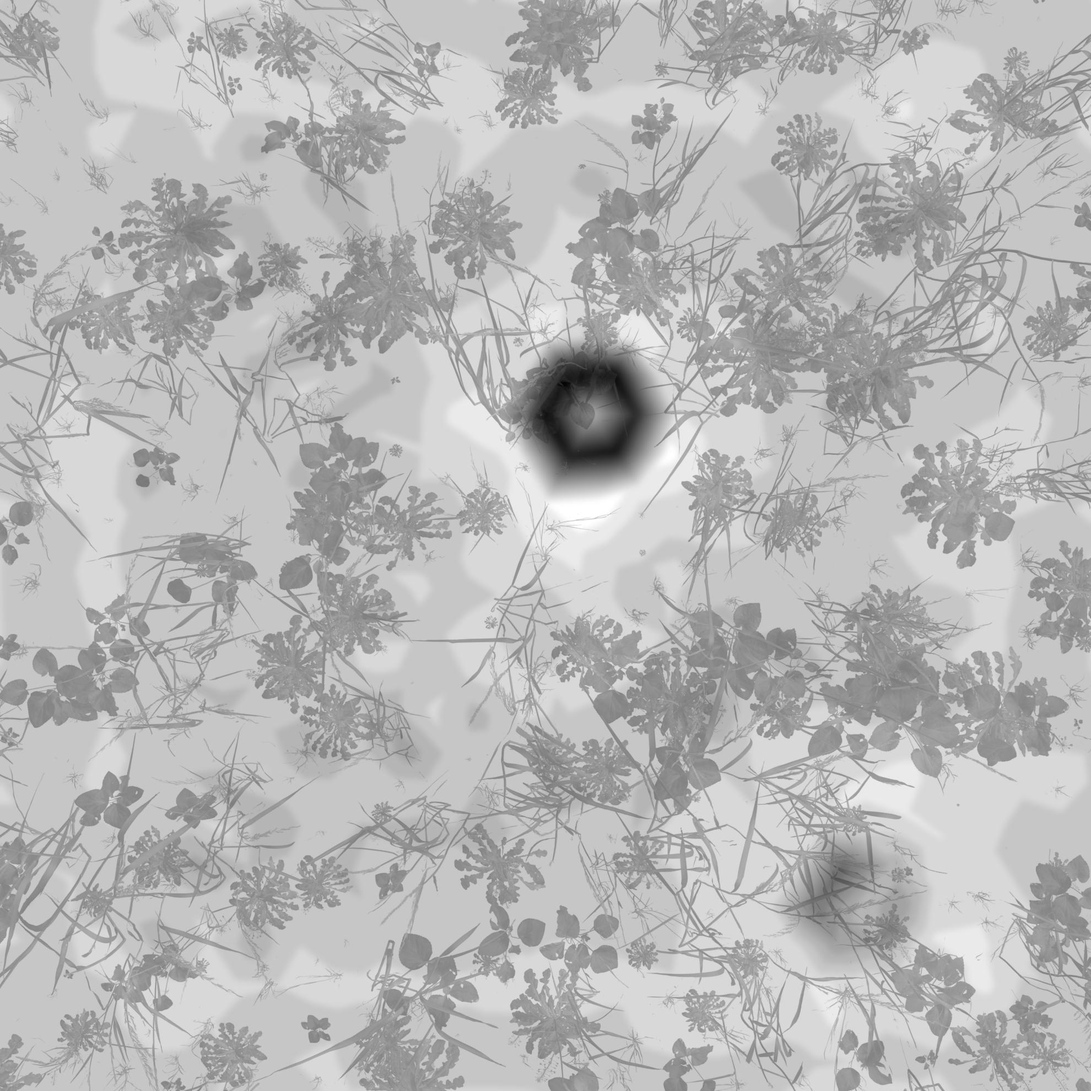landmine: (786, 816, 940, 971), (511, 333, 658, 491)
